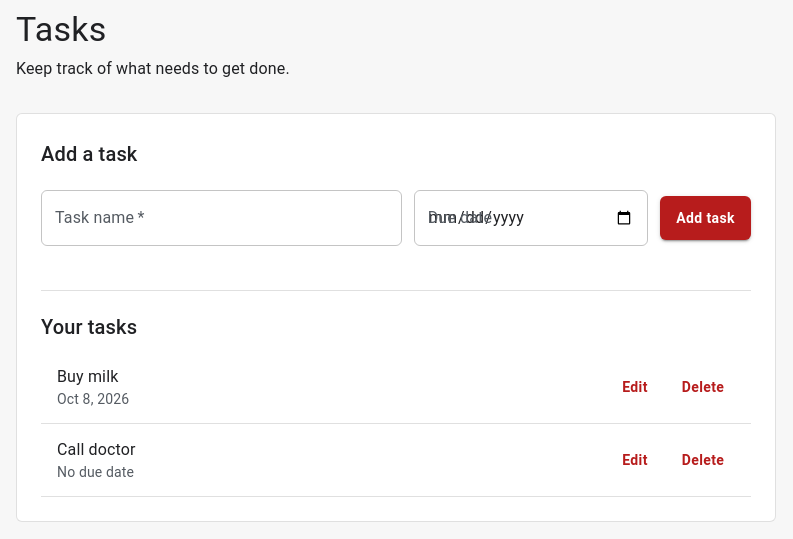
Scenario: App Component › deletes a task
Click the button with aria-label "Delete Buy milk" at (703, 387), box [671,365,735,409]
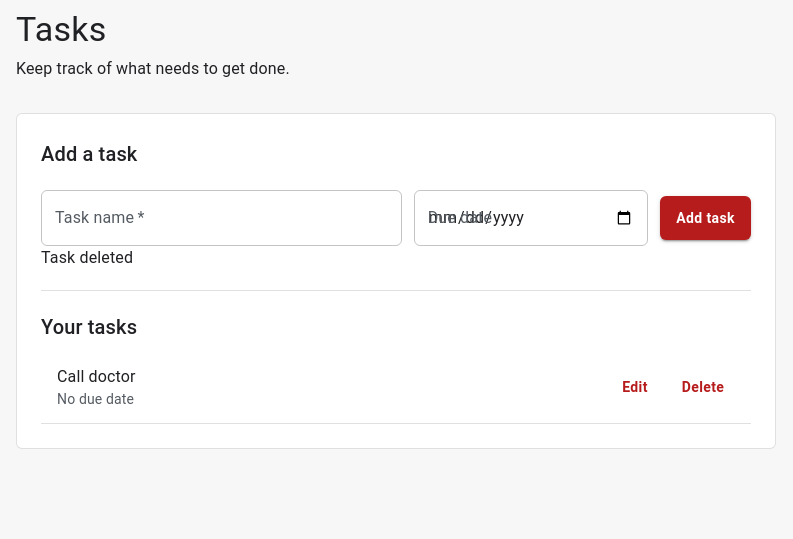
expect the text "Buy milk" is gone: met
